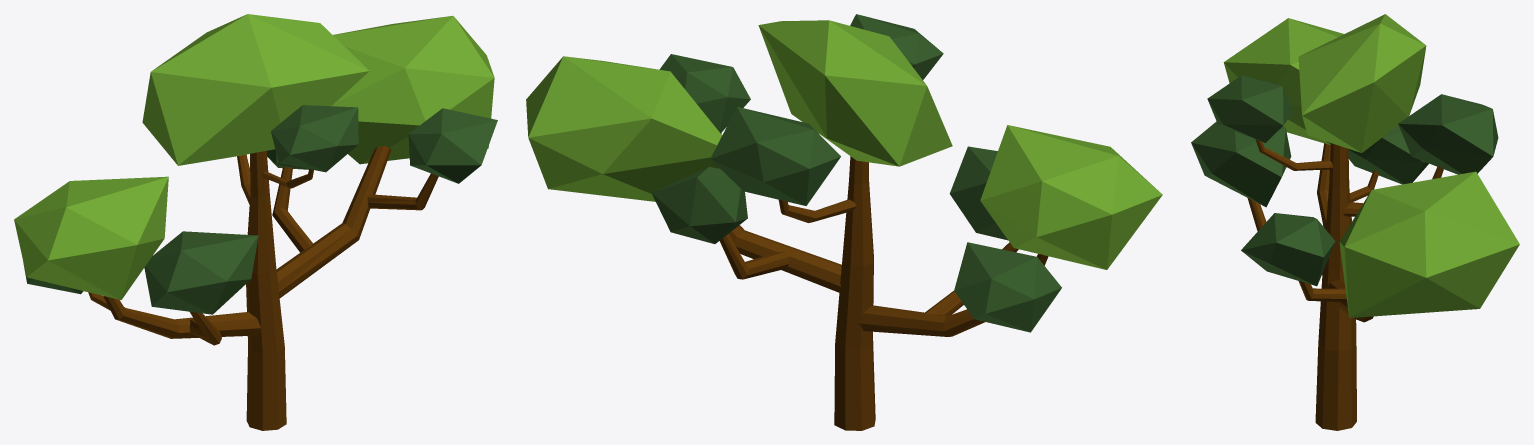
The model's file is Tree17.fbx.
3 views of the same model, side by side, from view 1: azimuth 30°, elevation 25°; view 2: azimuth 150°, elevation 25°; view 3: azimuth 270°, elevation 25° (orthographic). The views are drawn at different scales.
Visible parts, largest first — view 1: Plane_346.007; view 2: Plane_346.007; view 3: Plane_346.007.
Part boxes in pixels (x1,y1,x2,y2): Plane_346.007: [14, 14, 497, 430]; Plane_346.007: [526, 14, 1162, 430]; Plane_346.007: [1191, 14, 1519, 430].
Bounding box in the file's own units: 628 × 454 × 339.
